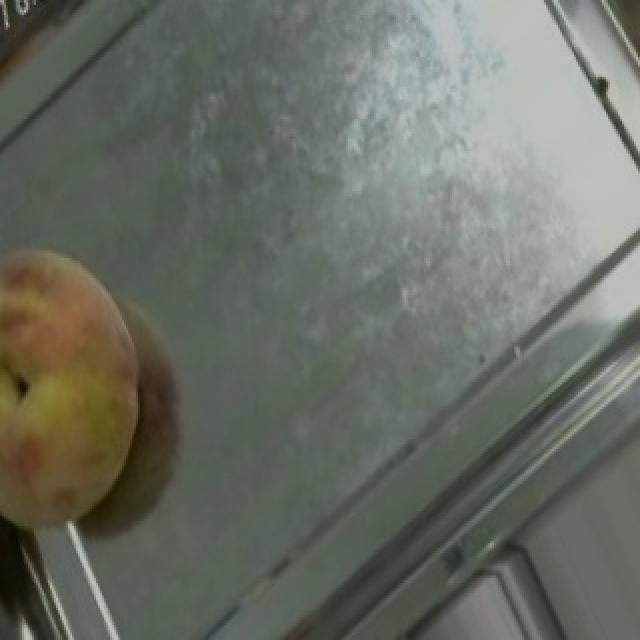Fruit: (0, 206, 184, 556)
